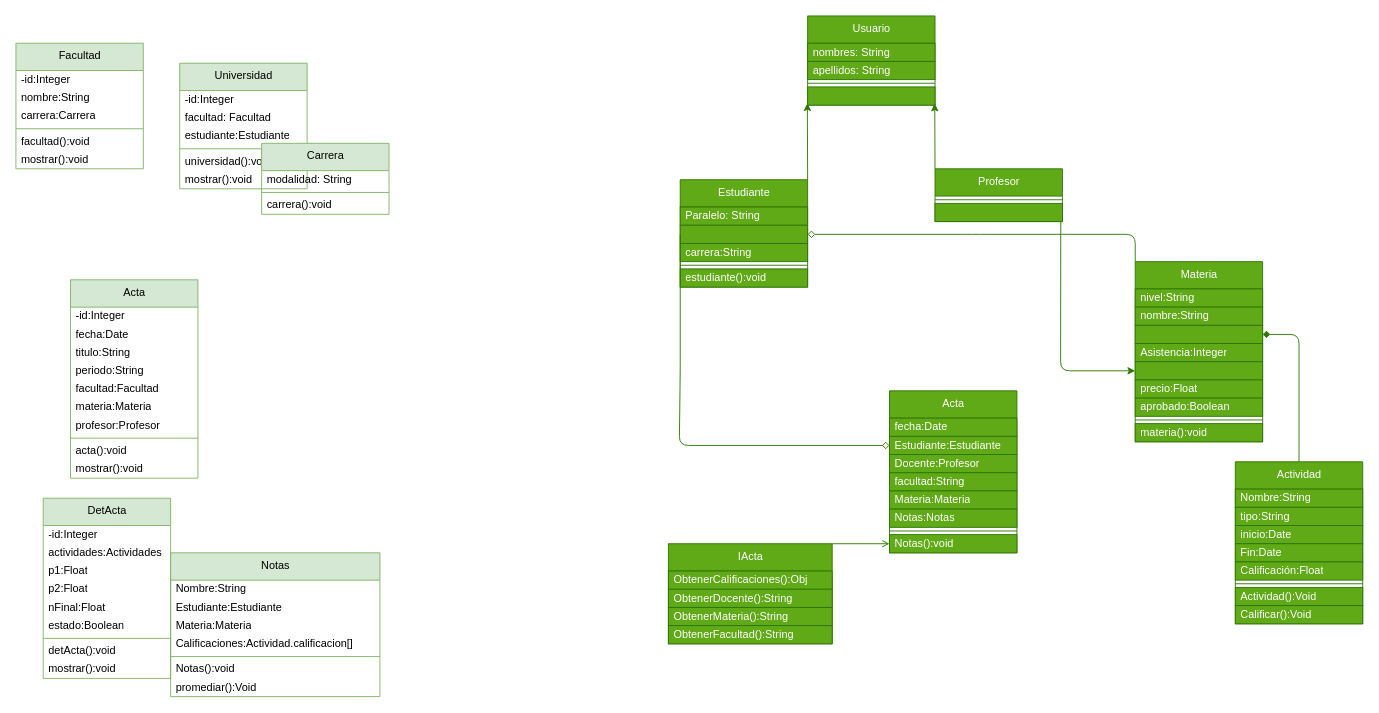
This 1379x713 diagram has some shape labels left out. The shapes that lost their labels are listed below. From the top down, each one's centre as x and y in pixels, then its label:
the point at 871,95: usuario():void
the point at 998,212: profesor():void
the point at 743,233: Materias:Materia[]
the point at 1198,334: Actividades:Actividad[]
the point at 1198,370: ProfesorNombre:String
